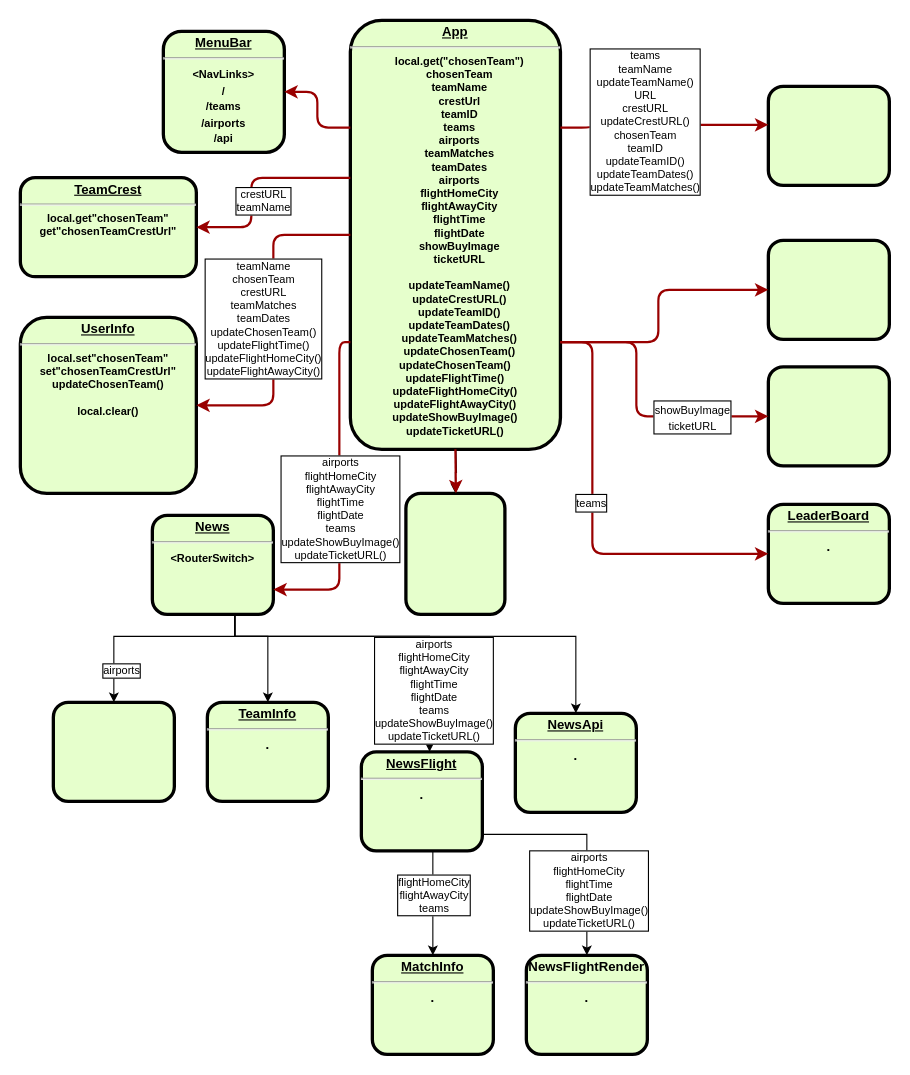
Some shapes in this 910 by 1075 pixel diagram are drawn without their labels. Here are the shapes that lost their labels. From the top down, the box of each, then its label:
(766, 84, 890, 186): Search .
(766, 238, 890, 340): NextMatch .
(766, 365, 890, 467): Buy .
(404, 491, 506, 615): Map .
(51, 700, 175, 802): NewsAirports .
